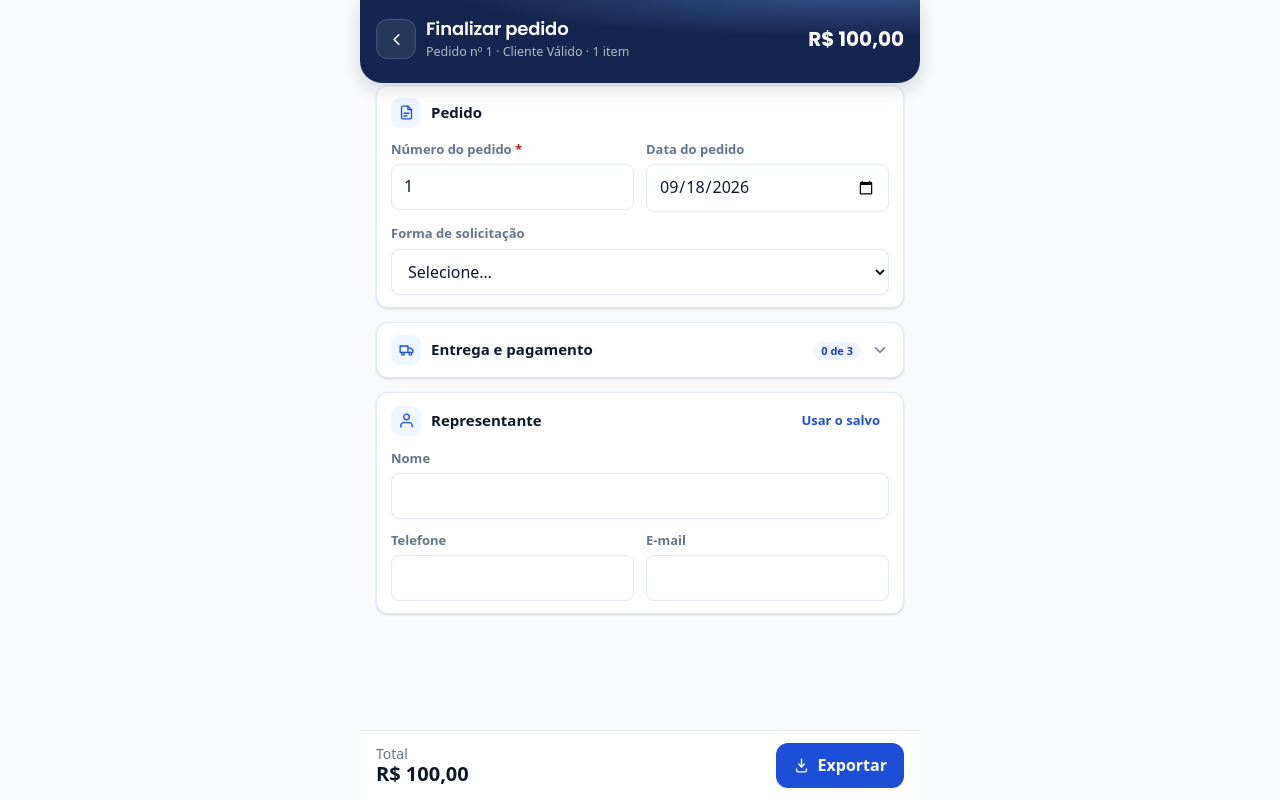
Test case: fluxo do pedido › número do pedido limpo bloqueia exportar arquivo, mas ainda deixa salvar como orçamento
The image size is (1280, 800).
Expected: the heading "Finalizar pedido" is shown, [426,16,568,41]
Clear the number field labelled "Número do pedido *" at x=512, y=187, box [391,164,634,210]
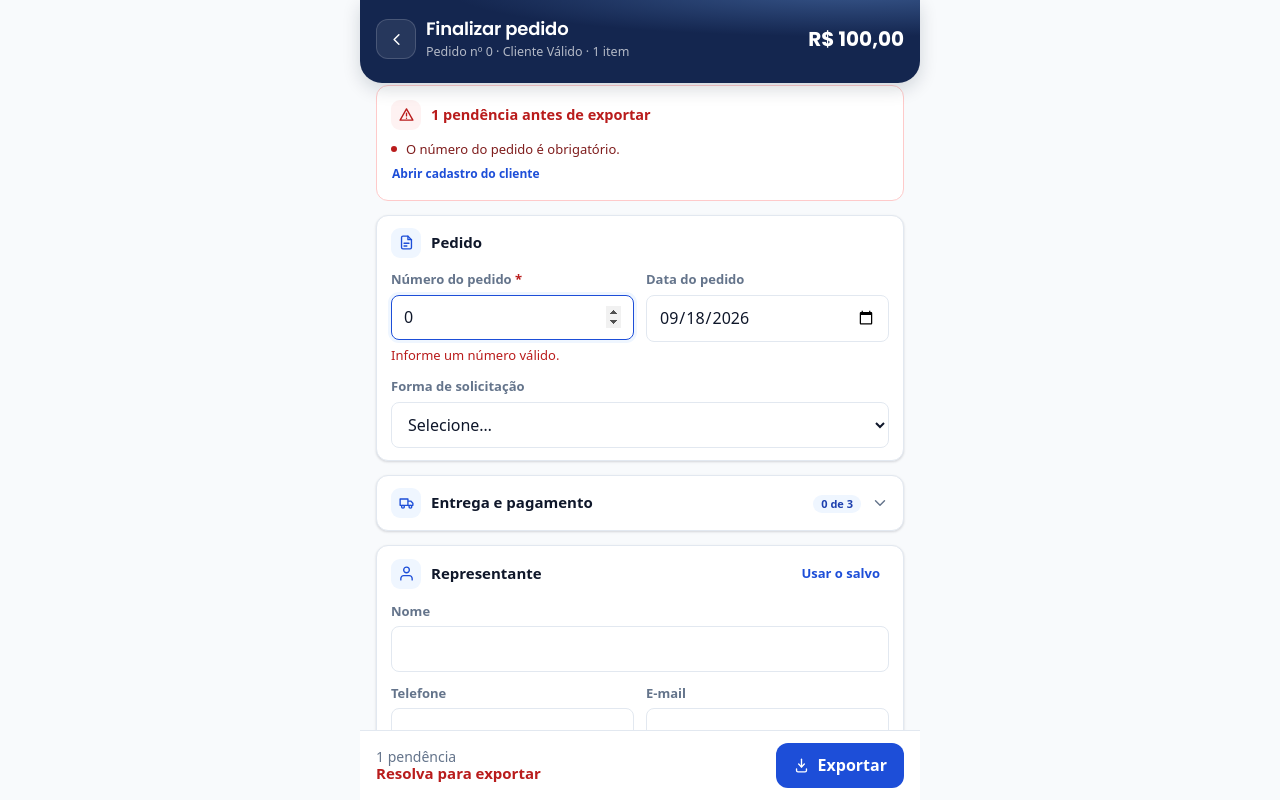
Now the text "O número do pedido é obrigatório." is shown, box [406,140,620,158]
A folha abre (número inválido não trava o caminho de orçamento)...
Click the button "Exportar".
click(840, 765)  # box [776,743,904,788]
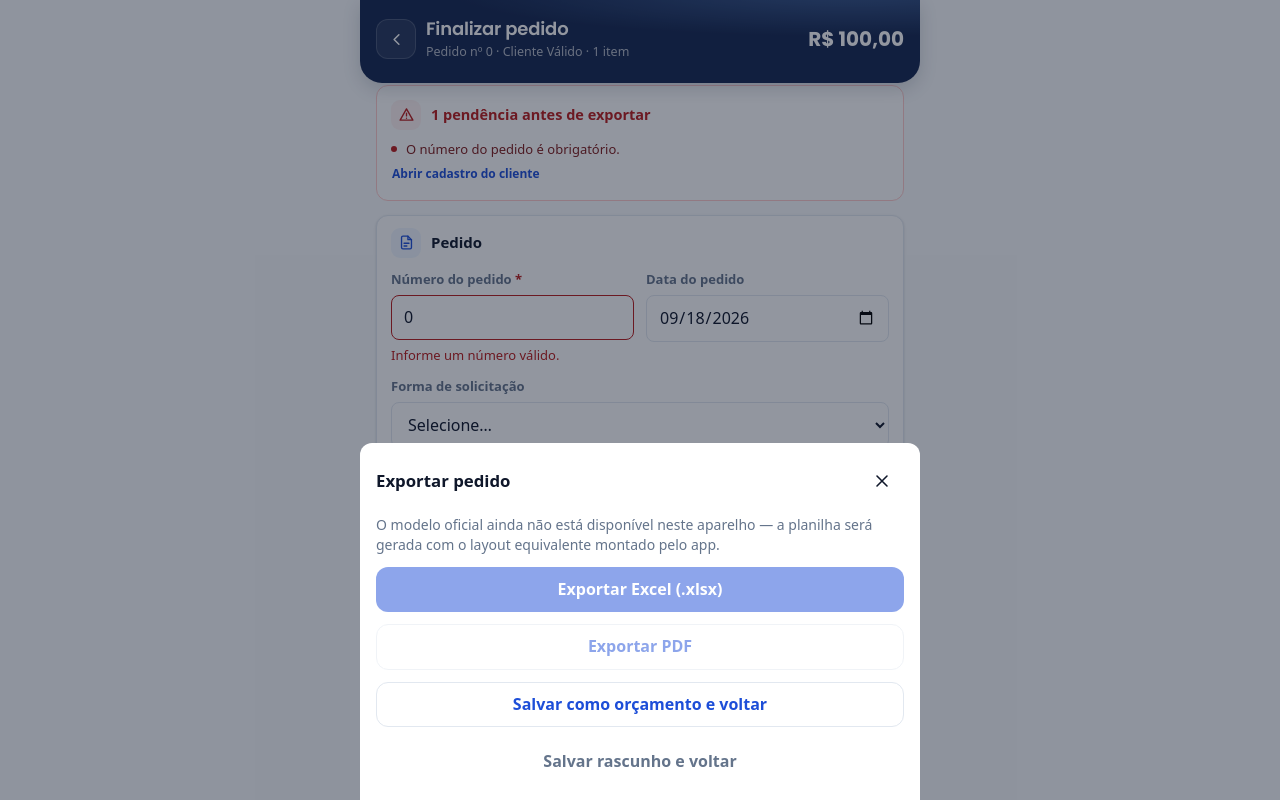
Now the button "Exportar Excel (.xlsx)" is disabled, box [376,567,904,612]
Now the button "Exportar PDF" is disabled, box [376,624,904,670]
Now the button "Salvar como orçamento e voltar" is enabled, box [376,682,904,727]
